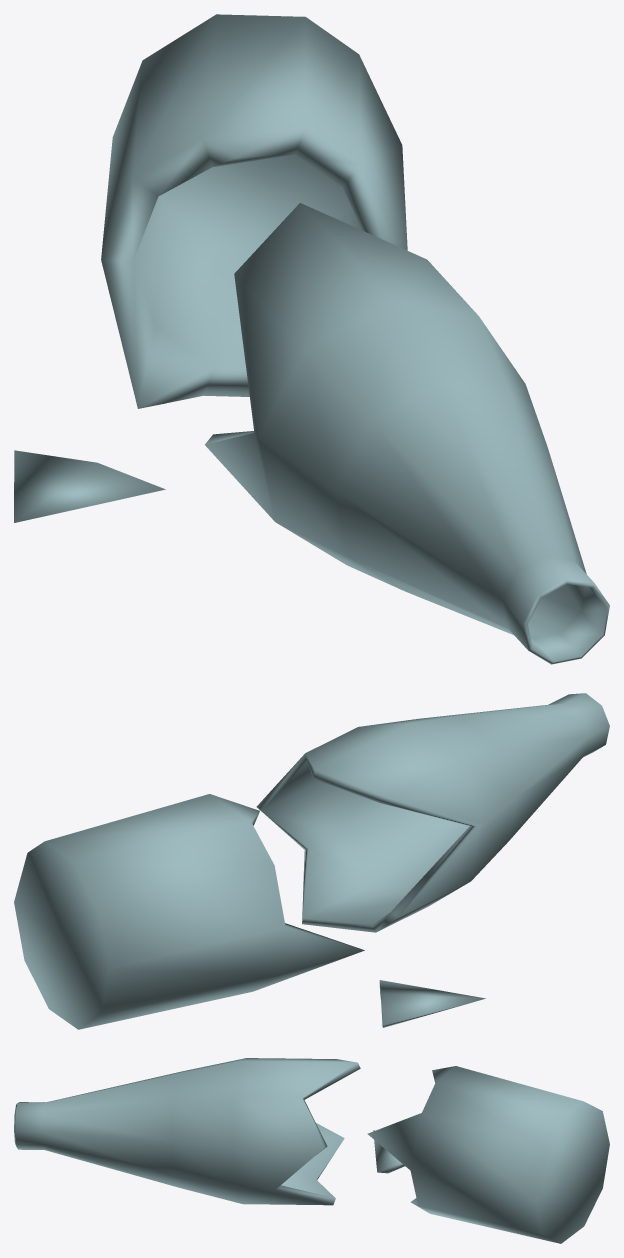
File: brokenBottle_01.fbx
3 renders of one model, top to bottom at view 1: azimuth 30°, elevation 25°; view 2: azimuth 150°, elevation 25°; view 3: azimuth 270°, elevation 25°, orthographic. The views are drawn at different scales.
Parts seen in each view (by area): view 1: brokenBottle_01; view 2: brokenBottle_01; view 3: brokenBottle_01.
Part boxes in pixels (x1,y1,x2,y2): brokenBottle_01: (14, 14, 609, 664); brokenBottle_01: (14, 693, 609, 1029); brokenBottle_01: (14, 1058, 609, 1243).
Bounding box in the file's own units: 32.76 × 16 × 60.81.
